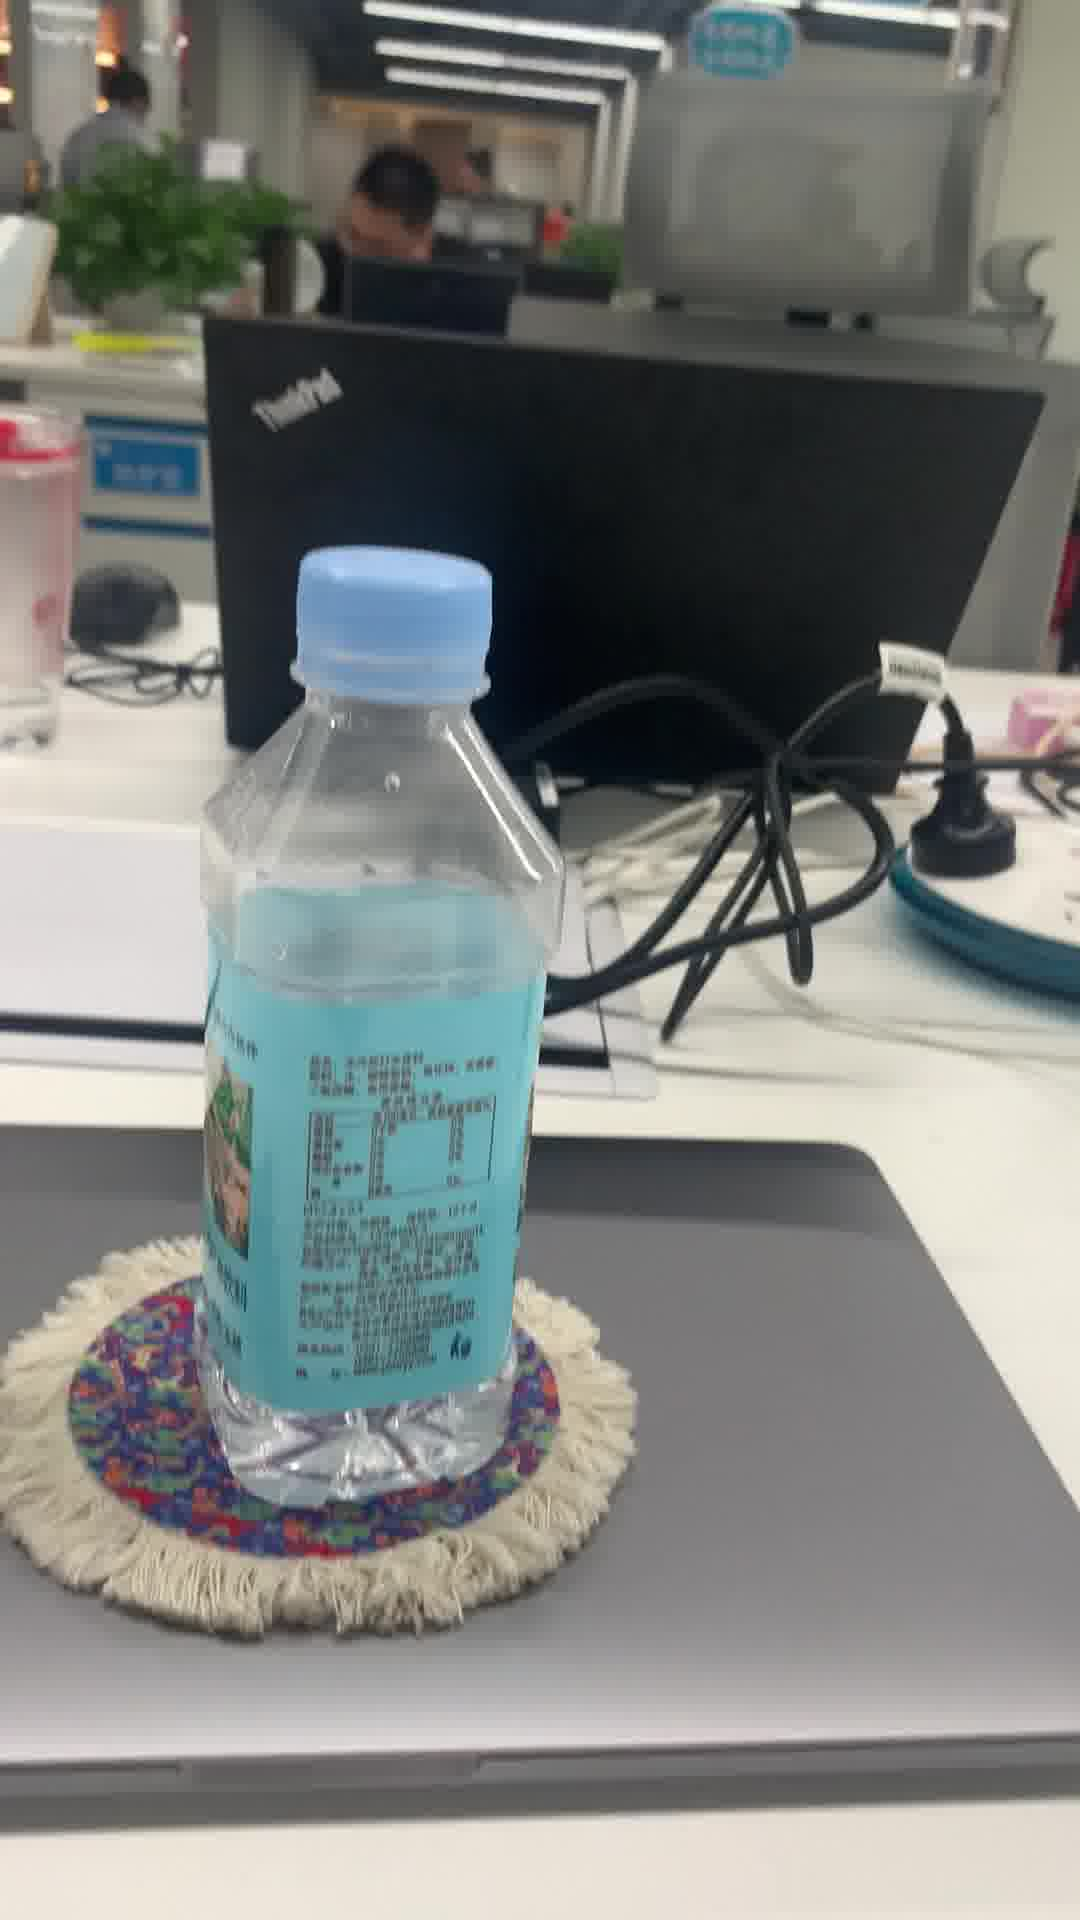水瓶: (179, 541, 566, 1510)
